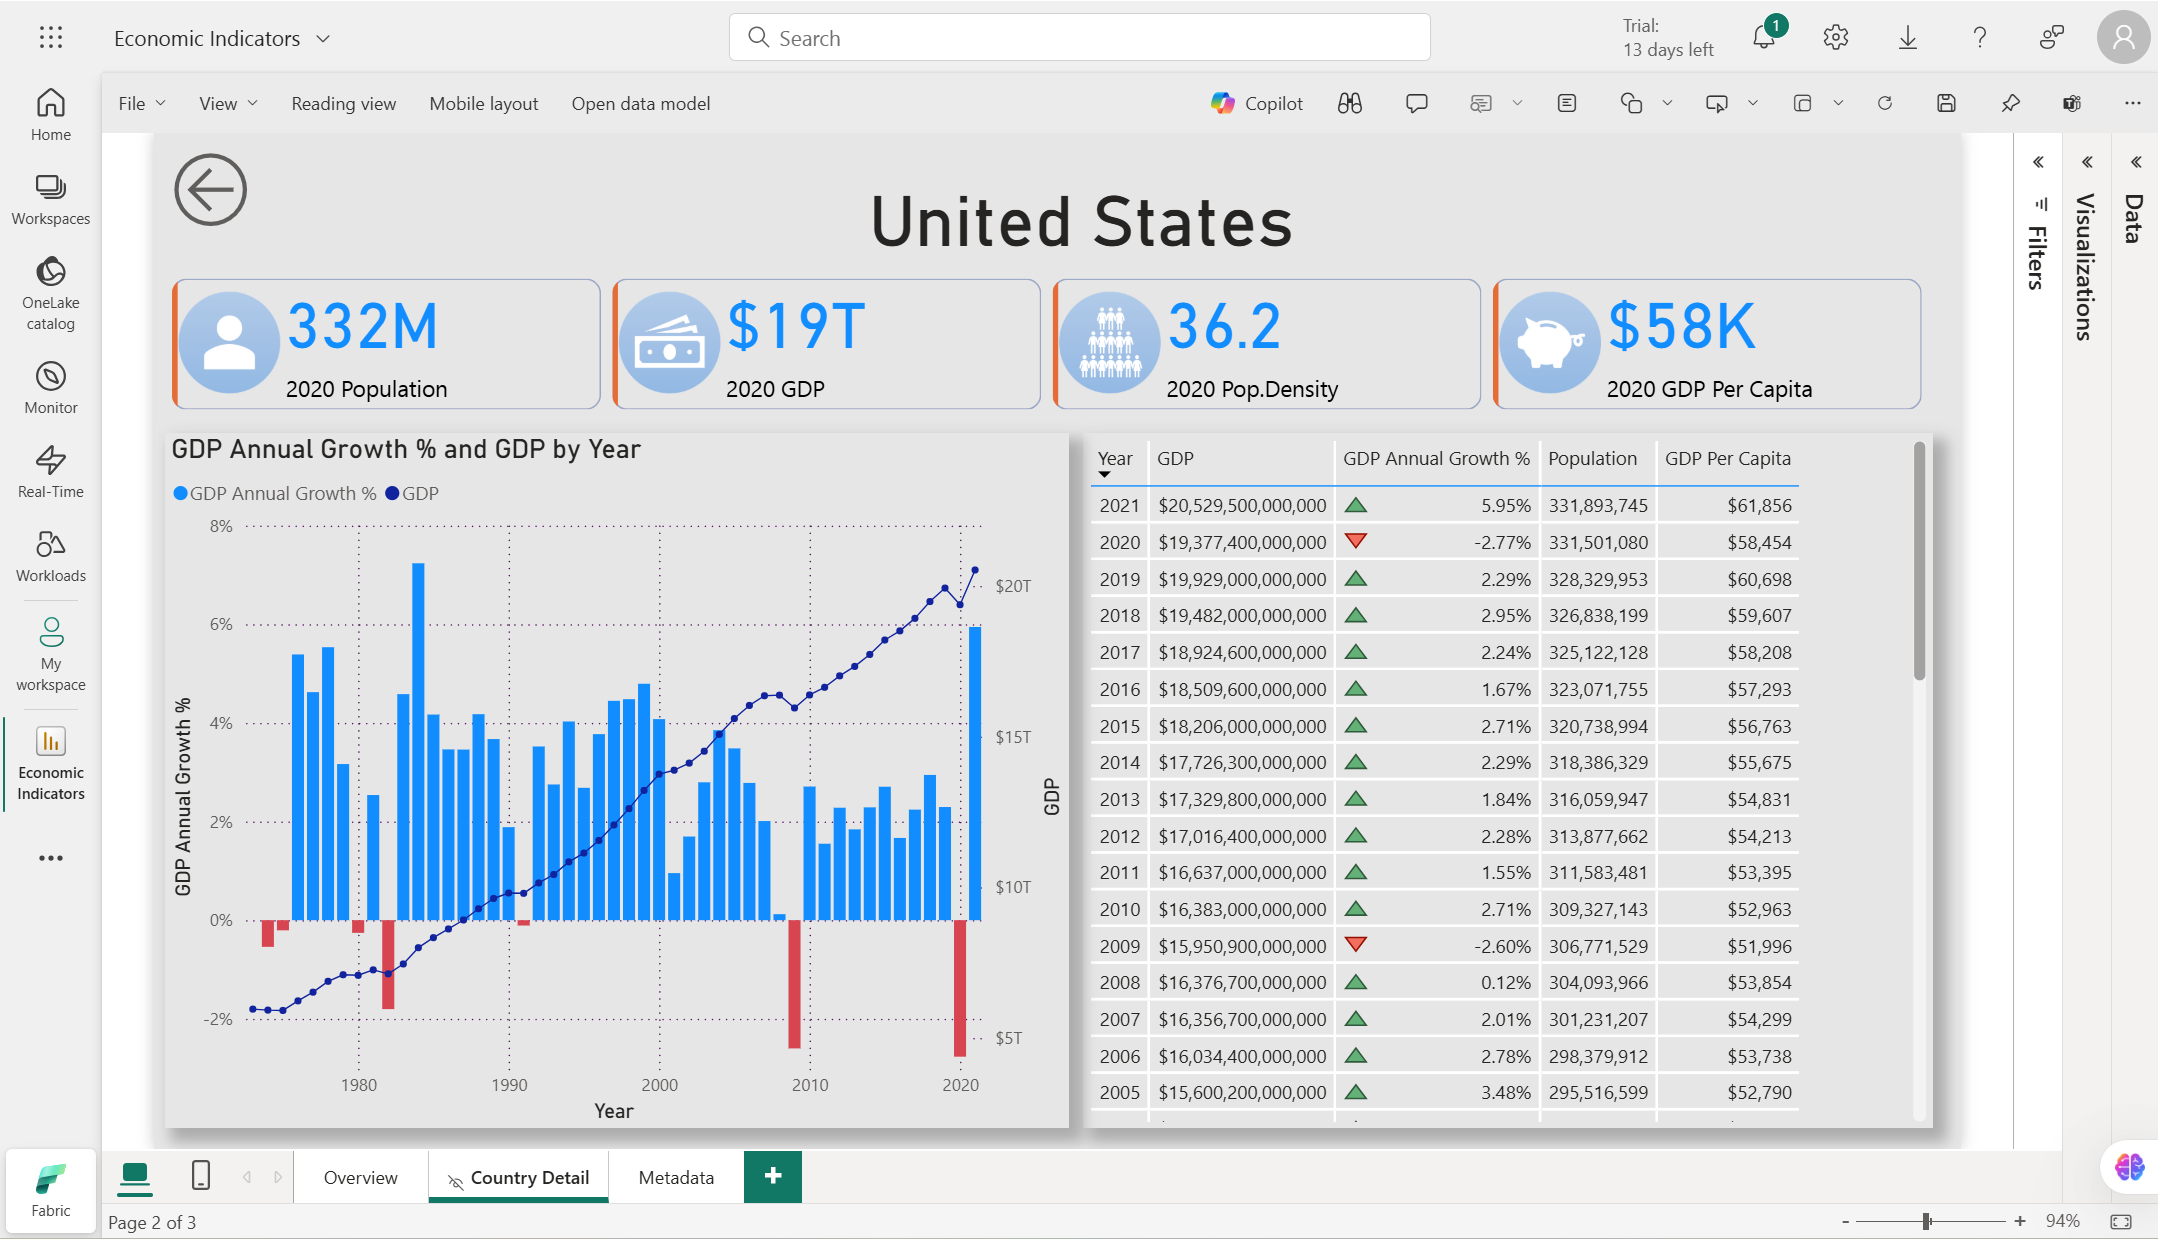

Layout of this report page (visuals, bound fields, positions):
{"tool":"powerbi","page":{"name":"Country Detail","canvas":[1280,720],"ordinal":1},"visuals":[{"type":"actionButton","box":[7.8,7.8,65.5,65.5],"z":0},{"type":"tableEx","fields":{"Values":["Indicators.Year","_Measures.GDP","_Measures.GDP Annual Growth %","_Measures.Population","_Measures.GDP Per Capita"]},"box":[658,213.1,602.9,492.7],"z":1000},{"type":"lineStackedColumnComboChart","fields":{"Category":["Indicators.Year"],"Y2":["_Measures.GDP"],"Y":["_Measures.GDP Annual Growth %"]},"box":[7.8,213.1,640.4,492.8],"z":2000},{"type":"cardVisual","fields":{"Data":["_Measures.Selected Country"]},"box":[117.6,7.8,1079.9,89.9],"z":3000},{"type":"cardVisual","fields":{"Data":["_Measures.2020 Population","_Measures.2020 GDP","_Measures.2020 Pop.Density","_Measures.2020 GDP Per Capita"]},"box":[7.3,97.7,1253.6,103.9],"z":4000}]}

Visuals, with their boxes on the page's 1280x720 design canvas (x1, y1, x2, y2). These are canvas units, not pixel positions in the 2158x1239 screenshot, which may show the page scaled, cropped or inside an application window:
actionButton: (left=8, top=8, right=73, bottom=73)
tableEx - Indicators.Year x _Measures.GDP: (left=658, top=213, right=1261, bottom=706)
lineStackedColumnComboChart - Indicators.Year x _Measures.GDP: (left=8, top=213, right=648, bottom=706)
cardVisual - _Measures.Selected Country: (left=118, top=8, right=1198, bottom=98)
cardVisual - _Measures.2020 Population x _Measures.2020 GDP: (left=7, top=98, right=1261, bottom=202)
